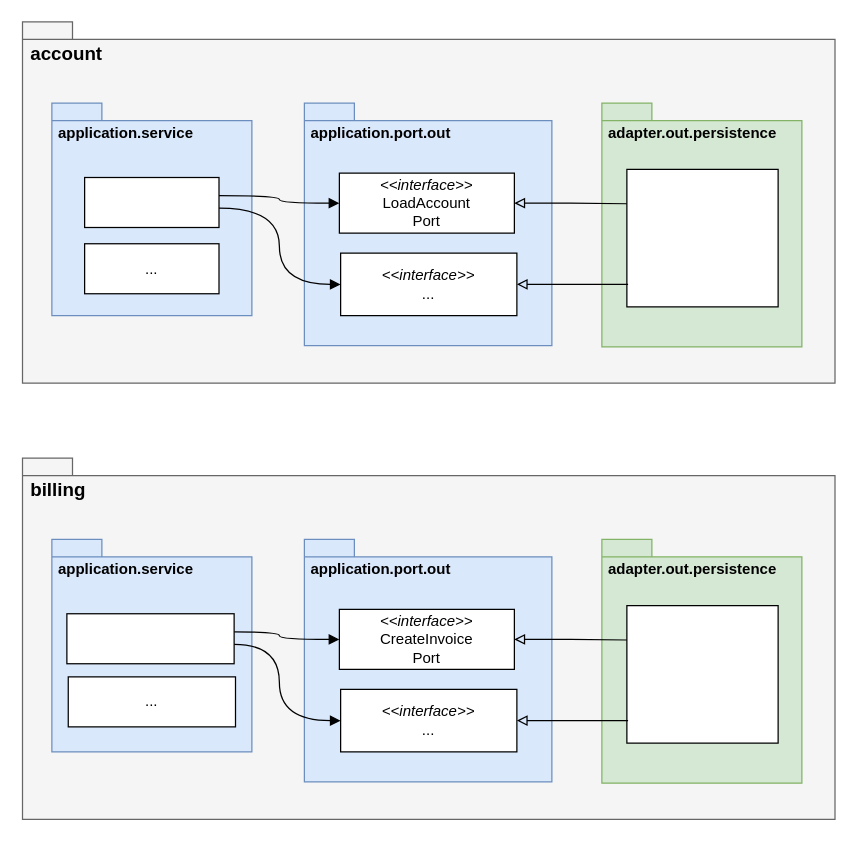
This 856x841 diagram has some shape labels left out. Each missing label, with the centre of its shape:
"AccountPersistence Adapter" belongs at (702,237).
"BillingPersistence Adapter" belongs at (702,673).
"CreateMonthlyInvoice Service" belongs at (150,638).
"SendMoney Service" belongs at (151,202).
